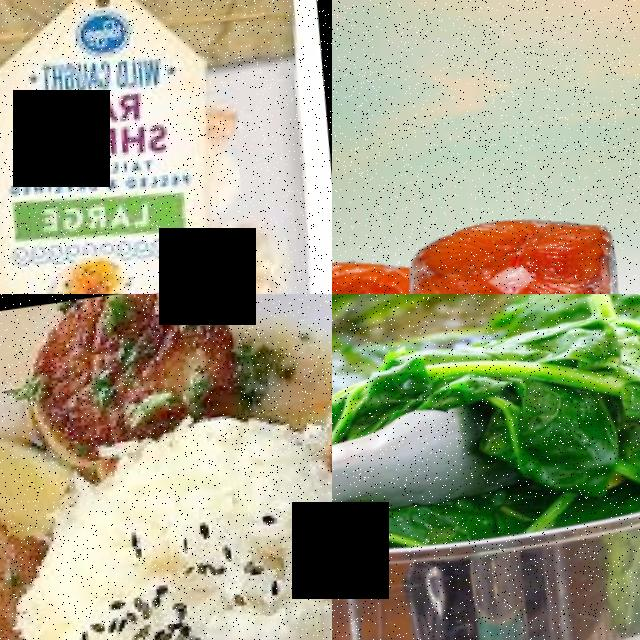salmon: (400, 197, 639, 294)
spinach: (483, 379, 621, 505), (538, 314, 633, 379), (620, 375, 640, 429)
white rice: (139, 412, 321, 533)
